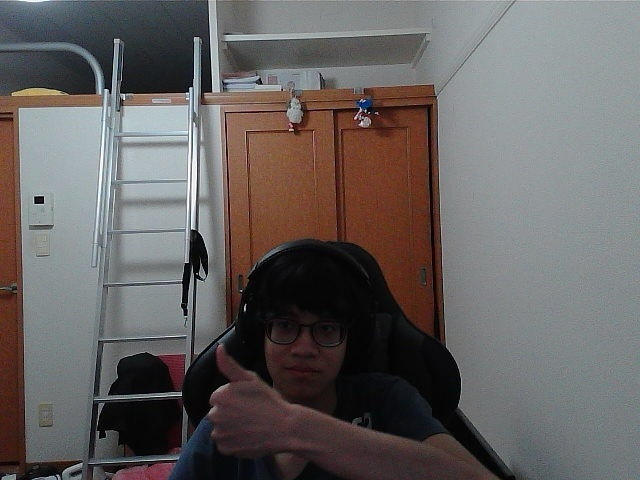thumb_up: (213, 351, 284, 450)
